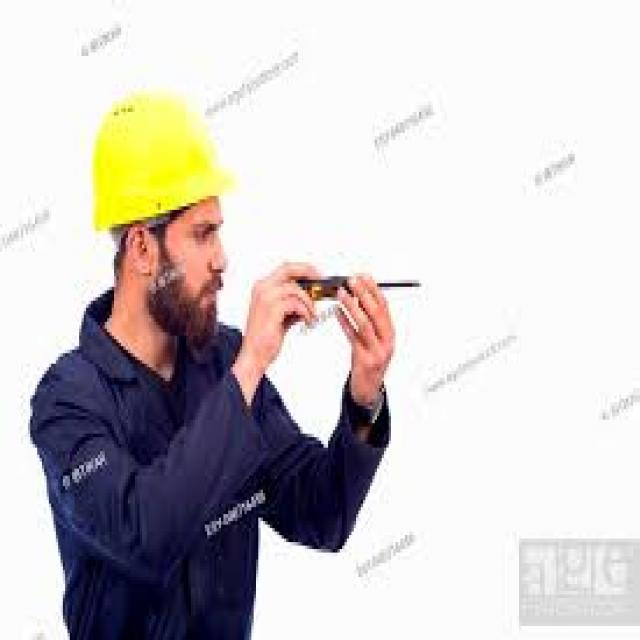screwdriver: (274, 257, 436, 317)
